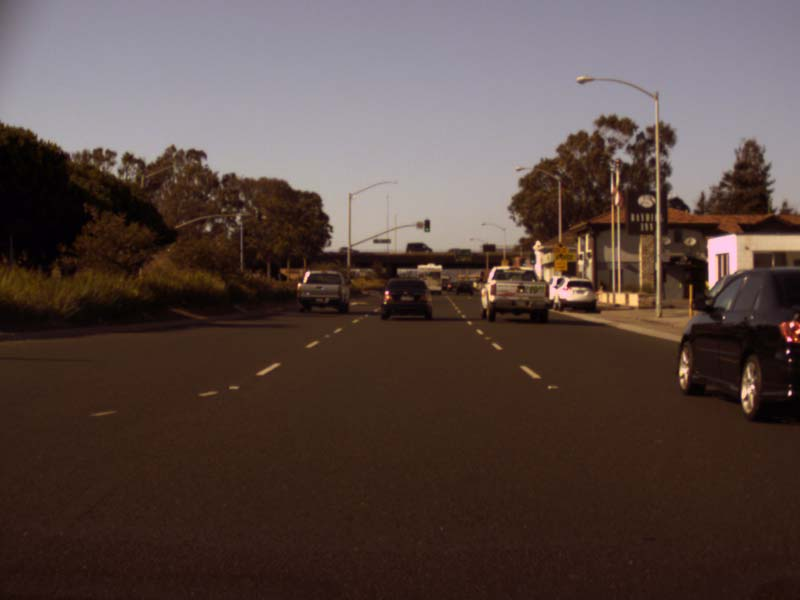Green: (529, 254, 535, 264), (424, 220, 429, 231)
